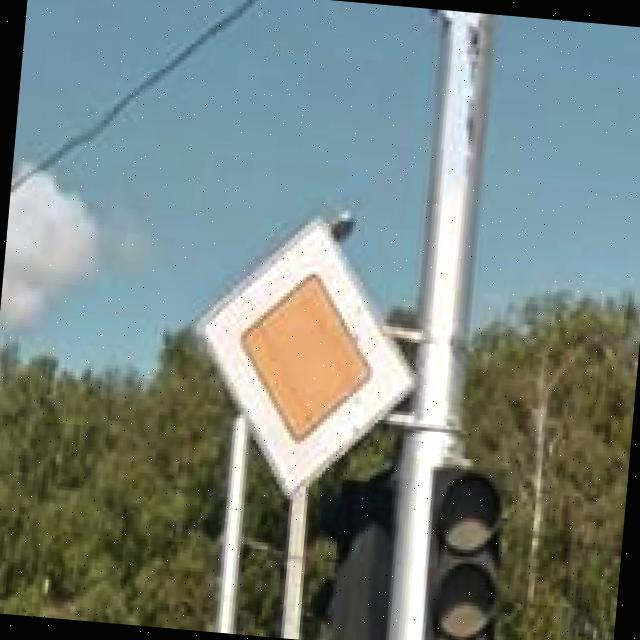Droga z pierwszenstwem: (182, 206, 433, 510)
